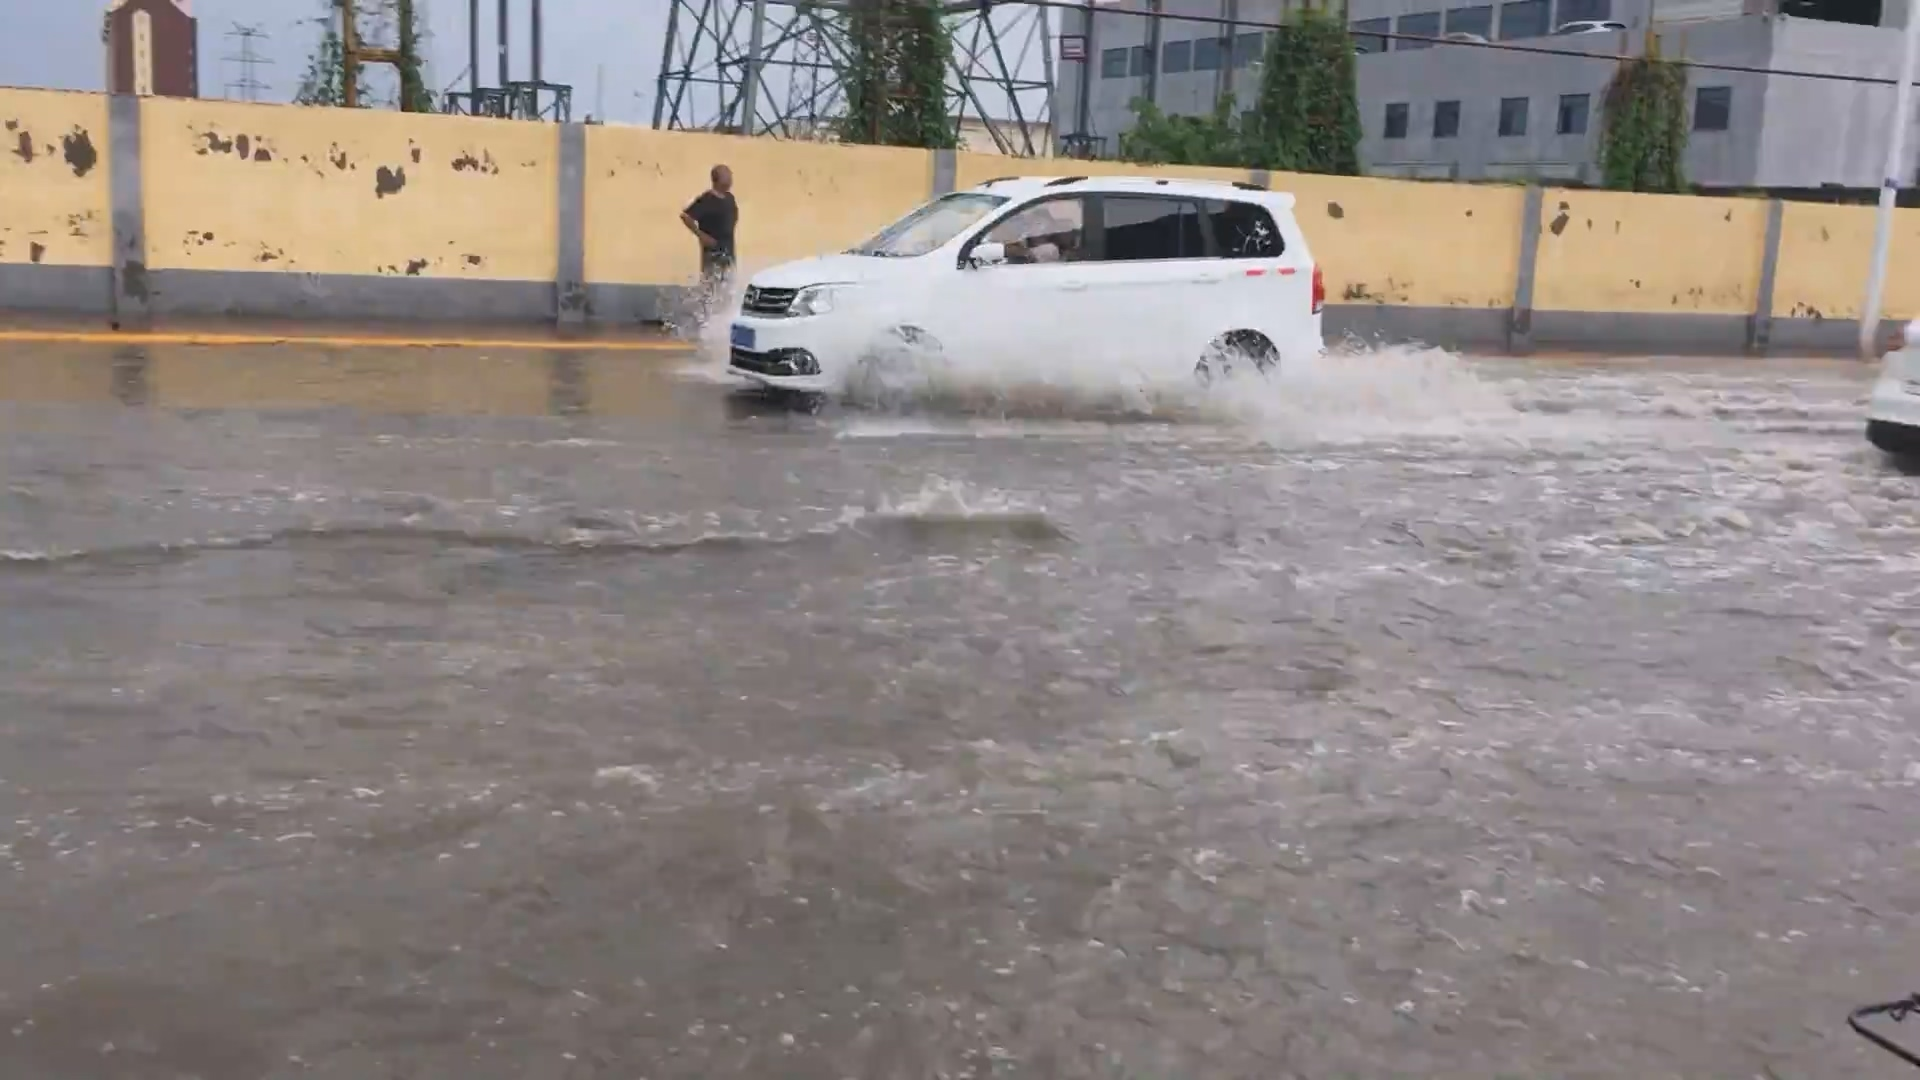puddle: (15, 360, 1909, 1080)
